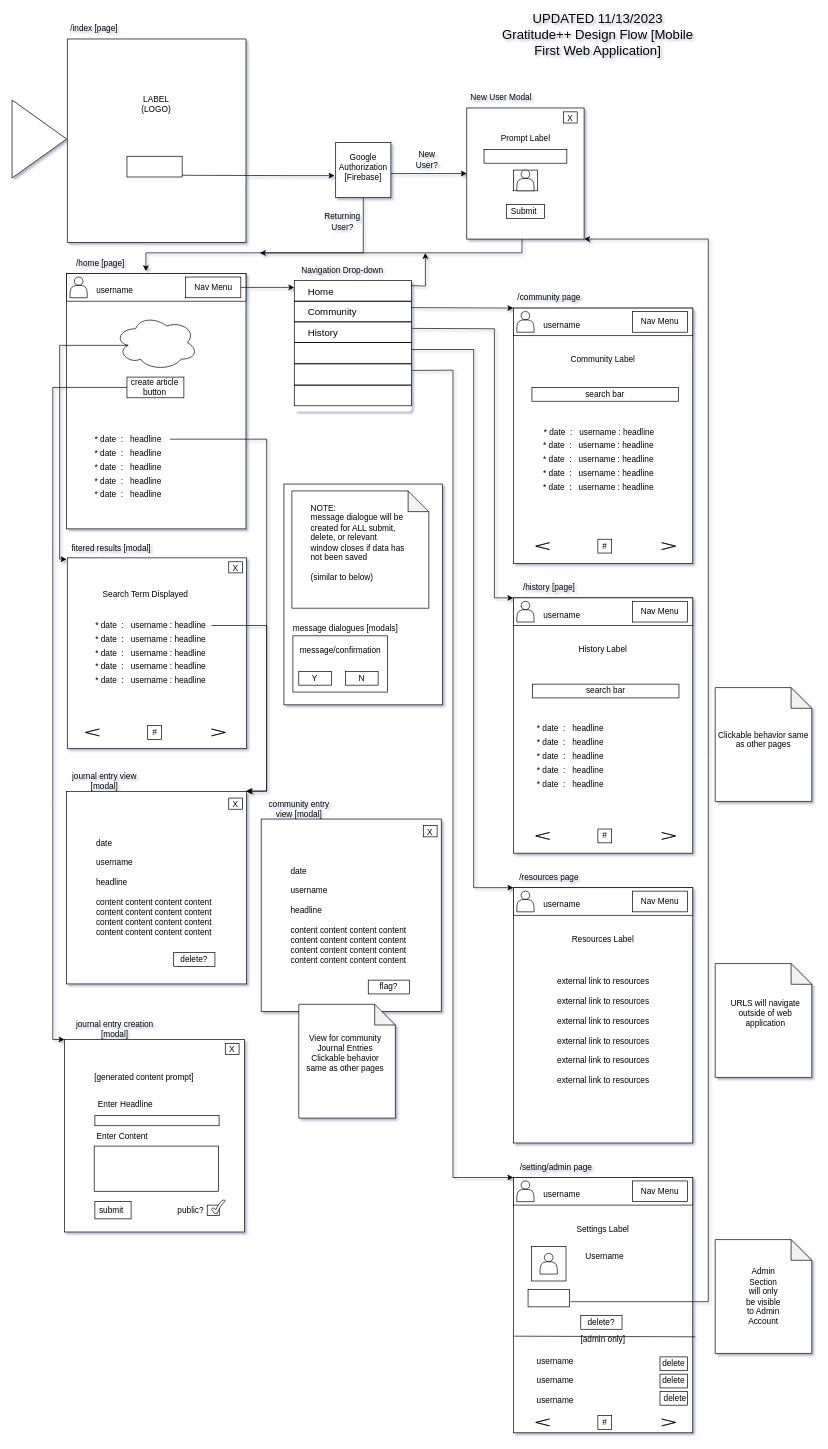
The diagram is 828 pixels wide and 1449 high, and some of its shapes have lost their labels. The shapes that lost their labels are listed below. From the top down, each one's centre as x and y in pixels, then its label:
the point at 39,138: User Entry
the point at 525,156: Username input
the point at 154,166: Login
the point at 156,342: word cloud component
the point at 353,353: Resources
the point at 353,374: Setting/Admin
the point at 353,395: Log Out
the point at 548,1298: change?
